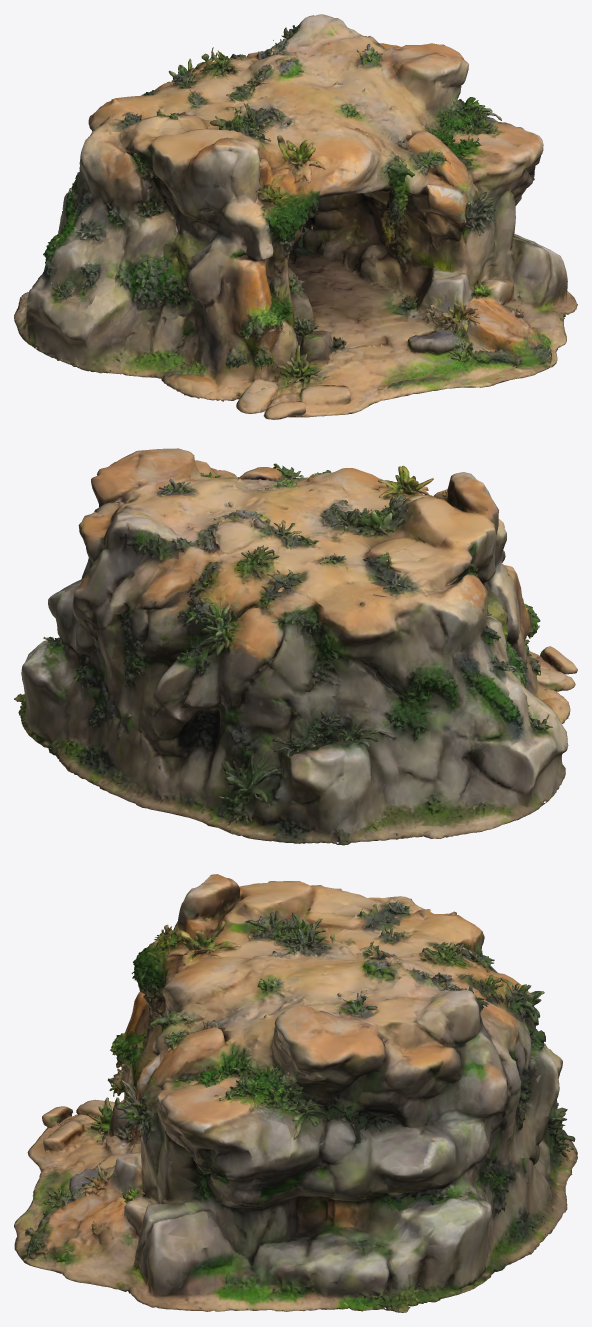
File: Cave_Entrance.glb
The picture shows the model from 3 angles, top to bottom: view 1: azimuth 30°, elevation 25°; view 2: azimuth 150°, elevation 25°; view 3: azimuth 270°, elevation 25°; orthographic projection. The views are drawn at different scales.
Parts seen in each view (by area): view 1: Cave_Entrance; view 2: Cave_Entrance; view 3: Cave_Entrance.
Part boxes in pixels (x1,y1,x2,y2): Cave_Entrance: (14, 14, 577, 419); Cave_Entrance: (14, 448, 577, 845); Cave_Entrance: (14, 874, 577, 1312).
Size of the model in its own units: 1.9 by 0.8661 by 1.77.
1 material, 1 textured.
